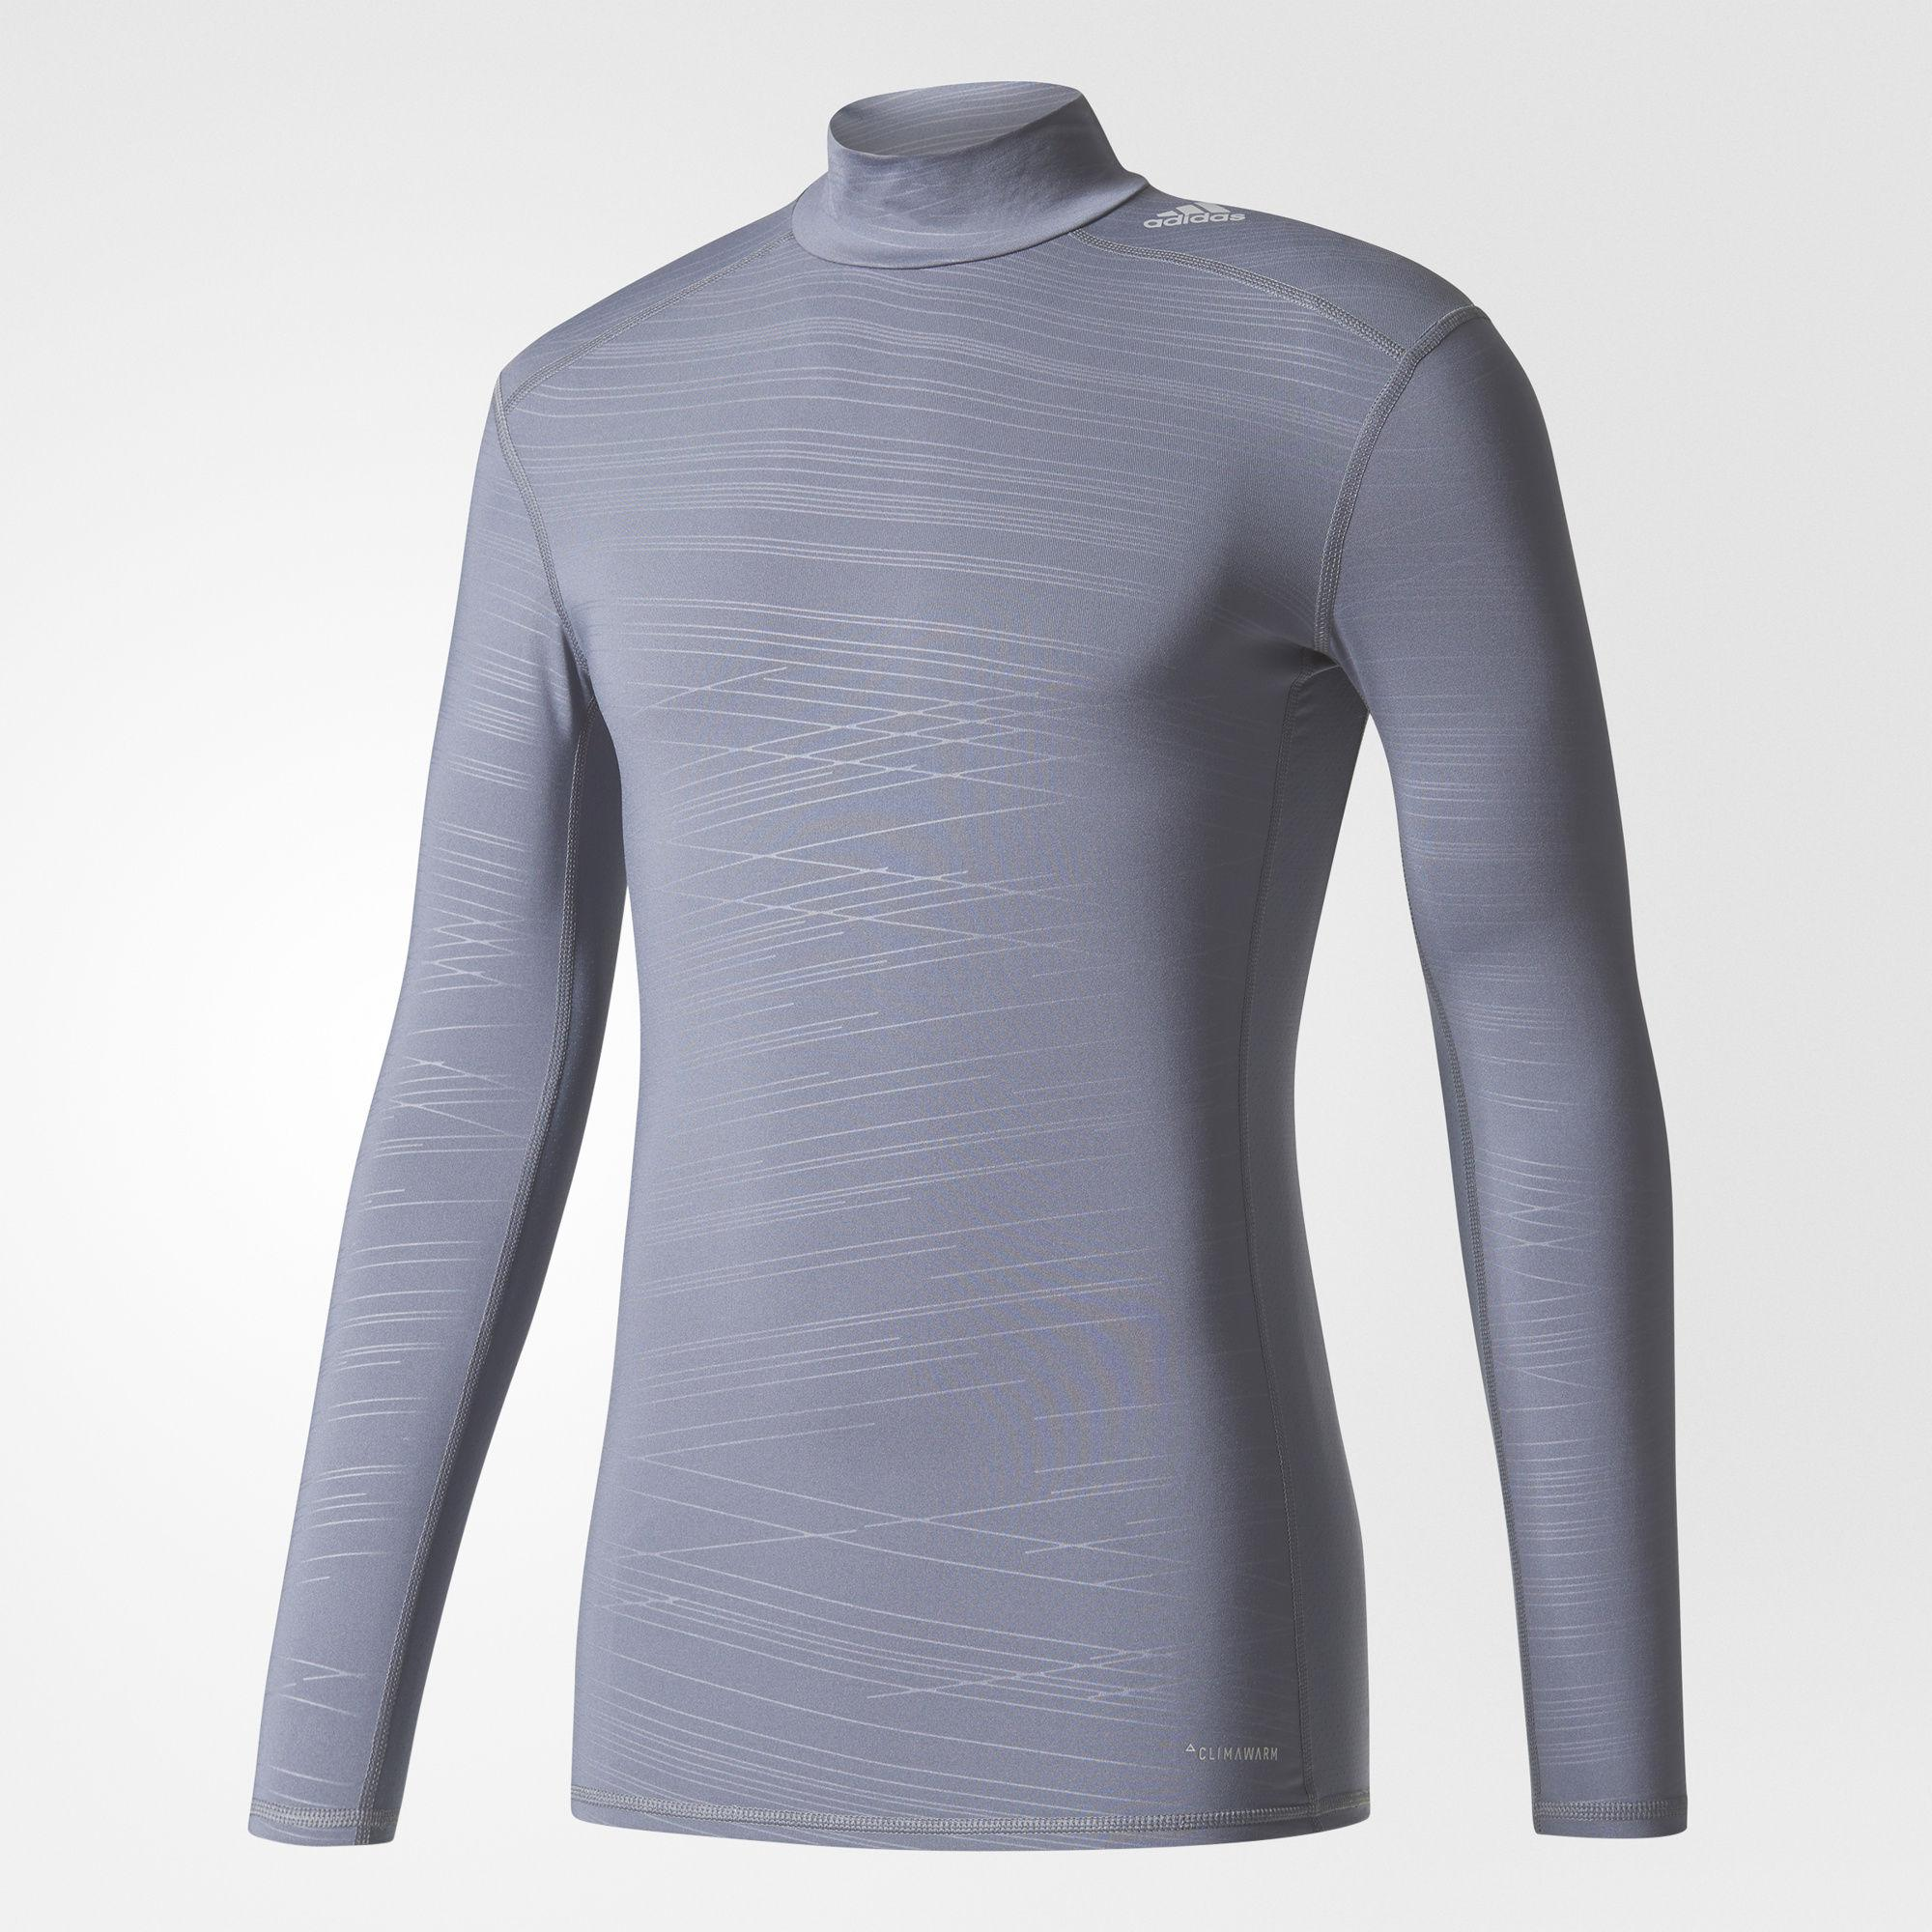teeshirt: (200, 104, 1771, 1923)
